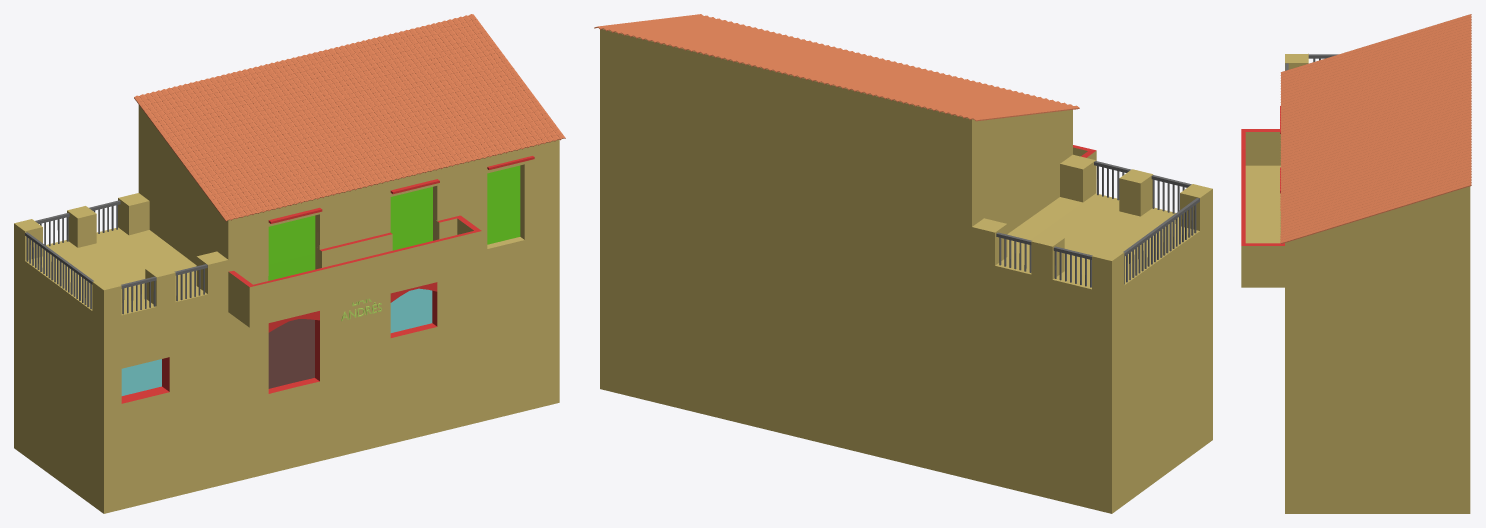
The model's file is 27_Bar_Andres_Miguel_Angel.fbx.
3 views of the same model, side by side, from view 1: azimuth 30°, elevation 25°; view 2: azimuth 150°, elevation 25°; view 3: azimuth 270°, elevation 25° (orthographic). The views are drawn at different scales.
Parts seen in each view (by area): view 1: Cylinder.007, Tejas_2.012; view 2: Cylinder.007, Tejas_2.012; view 3: Cylinder.007, Tejas_2.012.
Boxes of the visible parts, x1,y1,x2,y2 form: Cylinder.007: [14, 105, 559, 513]; Tejas_2.012: [134, 14, 565, 221]; Cylinder.007: [600, 29, 1212, 513]; Tejas_2.012: [594, 14, 1079, 121]; Cylinder.007: [1241, 53, 1470, 513]; Tejas_2.012: [1280, 14, 1471, 243].
Size of the model in its own units: 1617 by 1083 by 681.
